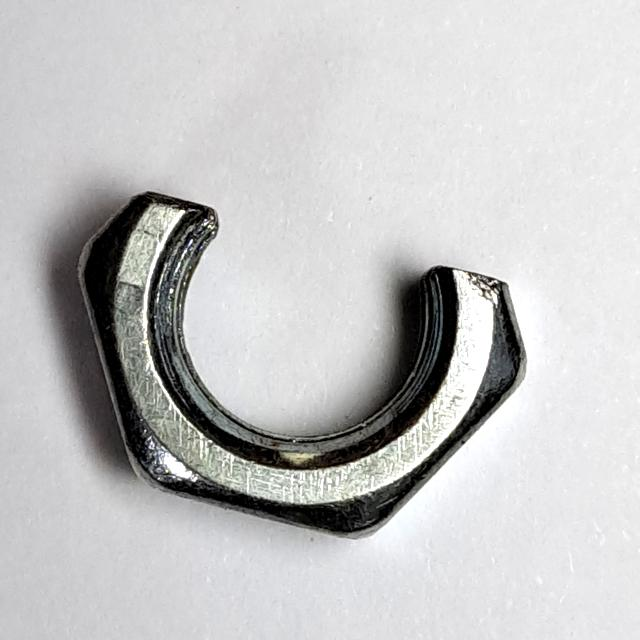Fracture: (57, 175, 556, 562)
